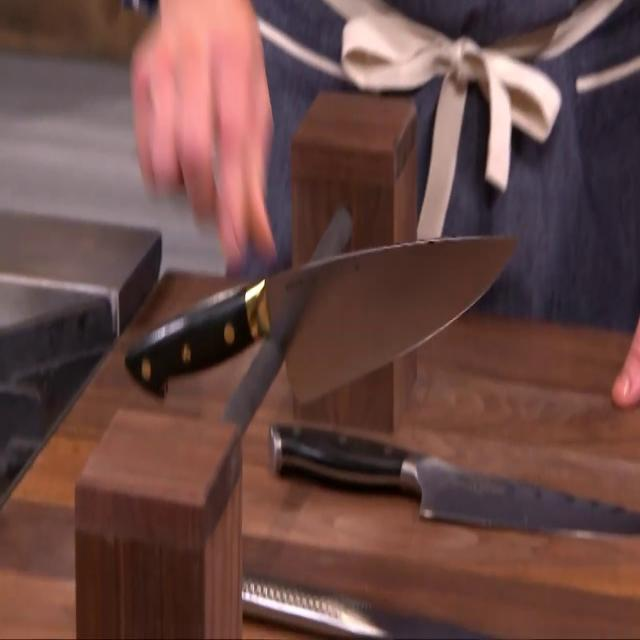Knife: (124, 234, 520, 404), (270, 425, 640, 536), (242, 572, 496, 640)
